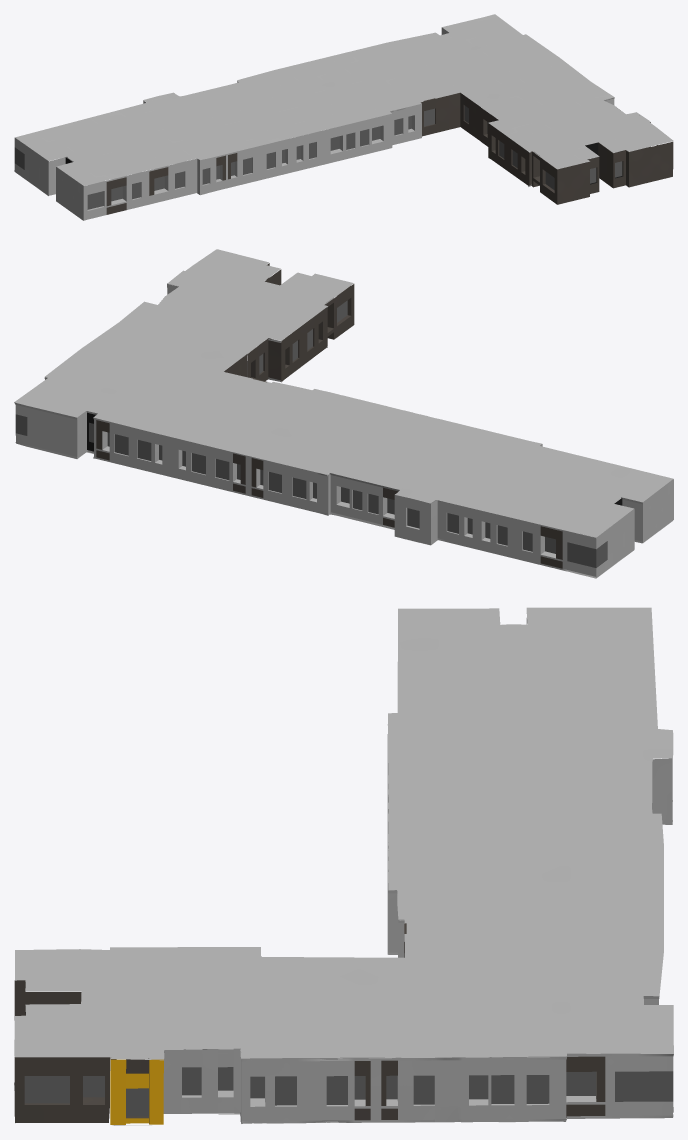
The picture shows the model from 3 angles, top to bottom: view 1: azimuth 30°, elevation 25°; view 2: azimuth 150°, elevation 25°; view 3: azimuth 270°, elevation 25°; orthographic projection. The views are drawn at different scales.
Parts seen in each view (by area): view 1: polySurface8 polySurface33, polySurface8 polySurface22 (×3), polySurface8 polySurface17 (×2), polySurface8 polySurface9 (×3), polySurface8 polySurface11; view 2: polySurface8 polySurface33 (×2), polySurface8 polySurface17 (×4), polySurface8 polySurface9, polySurface8 polySurface15; view 3: polySurface8 polySurface33 (×2), polySurface8 polySurface17 (×5), polySurface8 polySurface15, polySurface8 polySurface22.
Part boxes in pixels (x1,y1,x2,y2): polySurface8 polySurface33: [15, 14, 673, 185]; polySurface8 polySurface22 (×3): [197, 92, 461, 194]; polySurface8 polySurface17 (×2): [480, 107, 673, 204]; polySurface8 polySurface9 (×3): [14, 138, 197, 220]; polySurface8 polySurface11: [462, 94, 480, 140]; polySurface8 polySurface33 (×2): [14, 249, 673, 539]; polySurface8 polySurface17 (×4): [15, 263, 672, 578]; polySurface8 polySurface9: [596, 479, 673, 577]; polySurface8 polySurface15: [394, 495, 437, 545]; polySurface8 polySurface33 (×2): [14, 607, 673, 1061]; polySurface8 polySurface17 (×5): [14, 952, 673, 1124]; polySurface8 polySurface15: [652, 758, 672, 824]; polySurface8 polySurface22: [387, 734, 404, 957].
Bounding box in the file's own units: 4.46 × 0.3148 × 2.75.
Materials: 9 (9 with a texture image).
